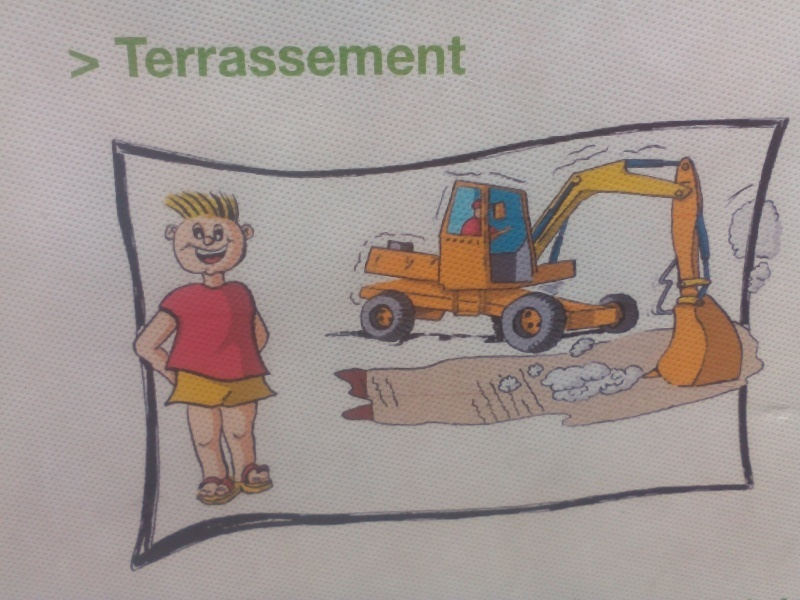text: (113, 35, 128, 80), (129, 35, 144, 80), (145, 35, 160, 80), (161, 35, 176, 80), (177, 35, 192, 80), (193, 35, 208, 80), (209, 35, 224, 80), (225, 35, 240, 80), (241, 35, 256, 80), (257, 35, 272, 80), (273, 35, 288, 80), (289, 35, 304, 80), (305, 35, 320, 80), (321, 35, 336, 80), (337, 35, 352, 80), (353, 35, 368, 80), (369, 35, 384, 80), (385, 35, 400, 80), (401, 35, 416, 80), (417, 35, 432, 80), (433, 35, 448, 80), (449, 35, 464, 80), (465, 35, 468, 80)
